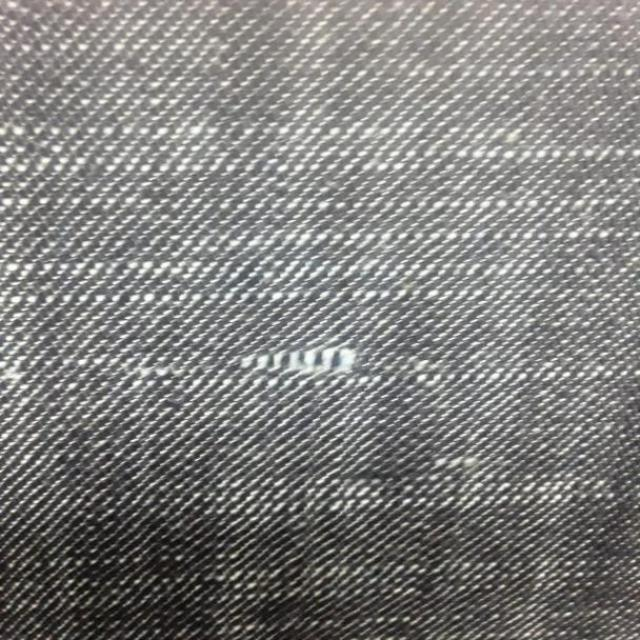Knot: (241, 349, 356, 372)
